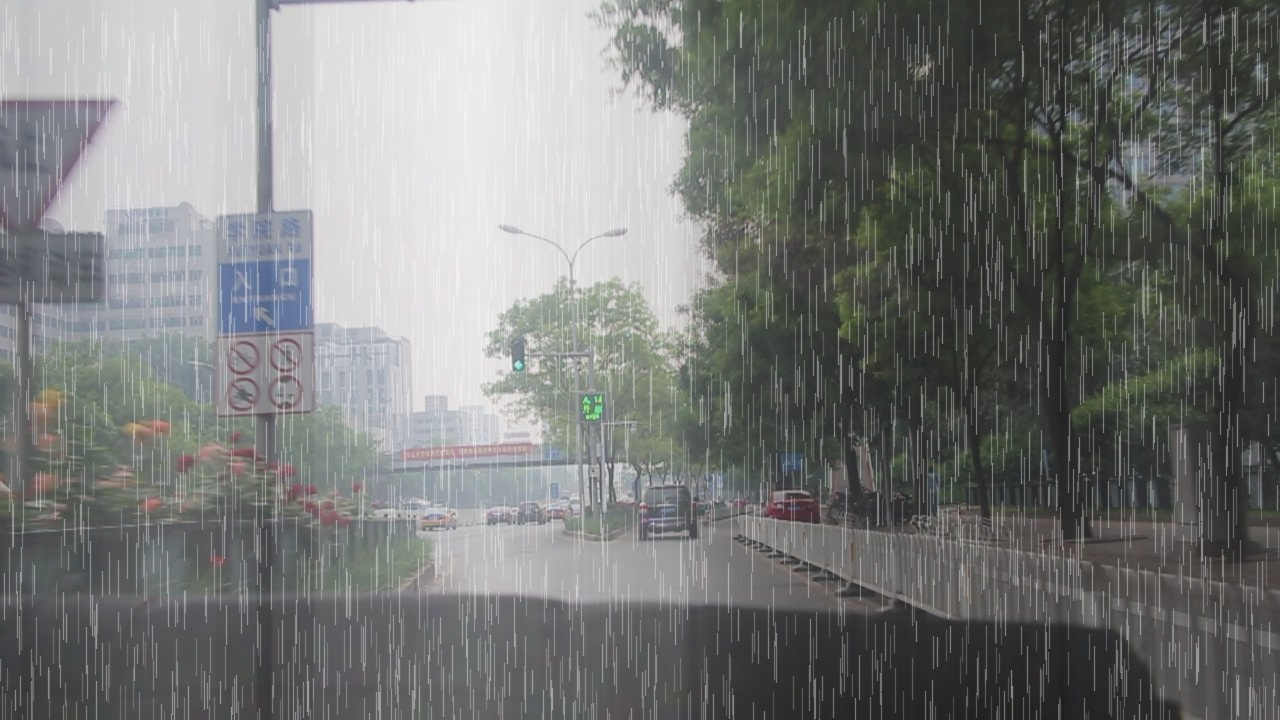Prohibitory Signs: (1, 94, 120, 237), (267, 338, 305, 374), (268, 374, 305, 410), (224, 340, 261, 376), (225, 377, 263, 412)
